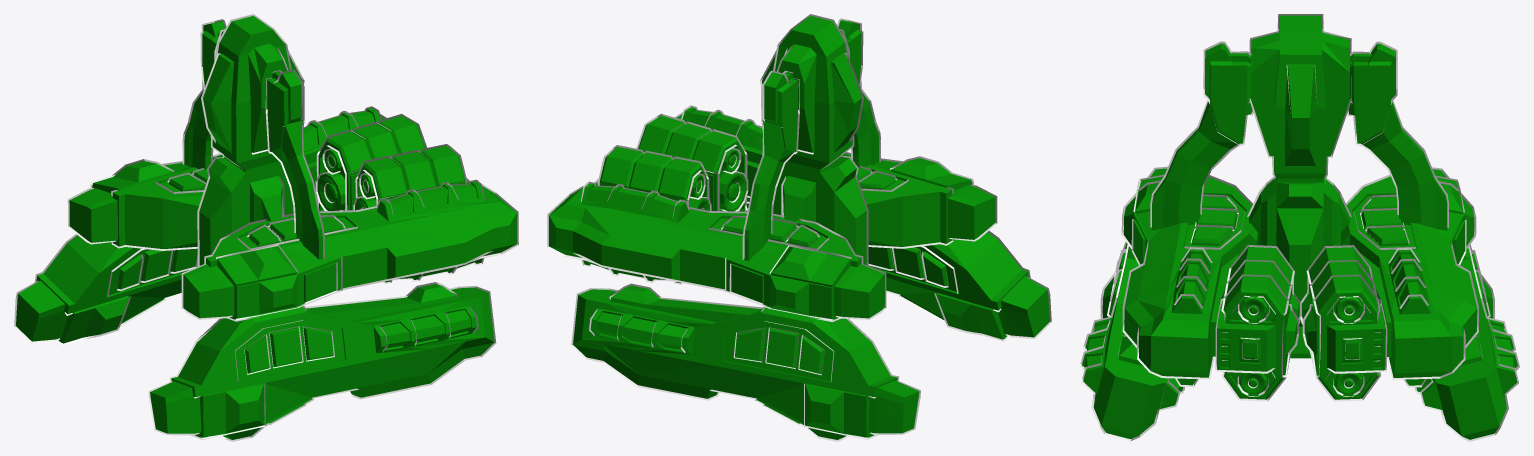
The model's file is ship5_green.glb.
3 renders of one model, left to right at view 1: azimuth 30°, elevation 25°; view 2: azimuth 150°, elevation 25°; view 3: azimuth 270°, elevation 25°, orthographic. The views are drawn at different scales.
Parts seen in each view (by area): view 1: ME_ship_IndexedFaceSet; view 2: ME_ship_IndexedFaceSet; view 3: ME_ship_IndexedFaceSet.
Part boxes in pixels (<box>): ME_ship_IndexedFaceSet: <box>14,14,518,441</box>; ME_ship_IndexedFaceSet: <box>547,14,1051,441</box>; ME_ship_IndexedFaceSet: <box>1080,14,1519,441</box>.
Bounding box in the file's own units: 431 × 383 × 402.
